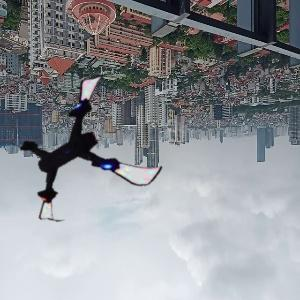drone: (14, 76, 153, 215)
